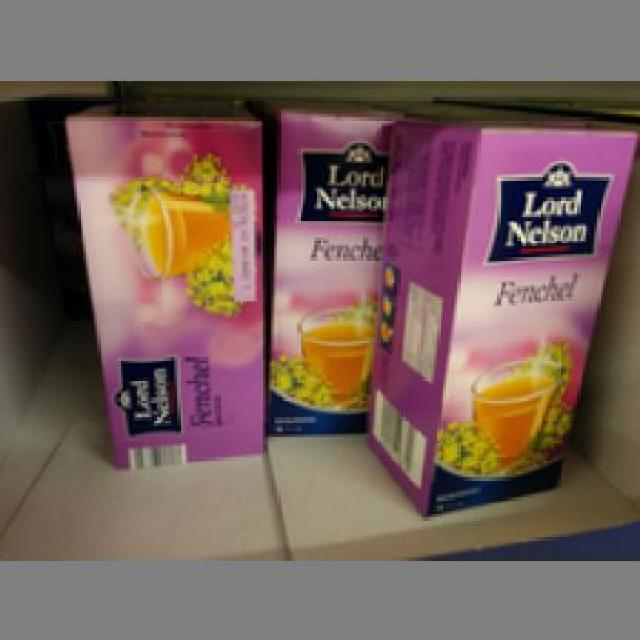Tea: (360, 117, 629, 514), (56, 99, 270, 472), (263, 97, 392, 434)
